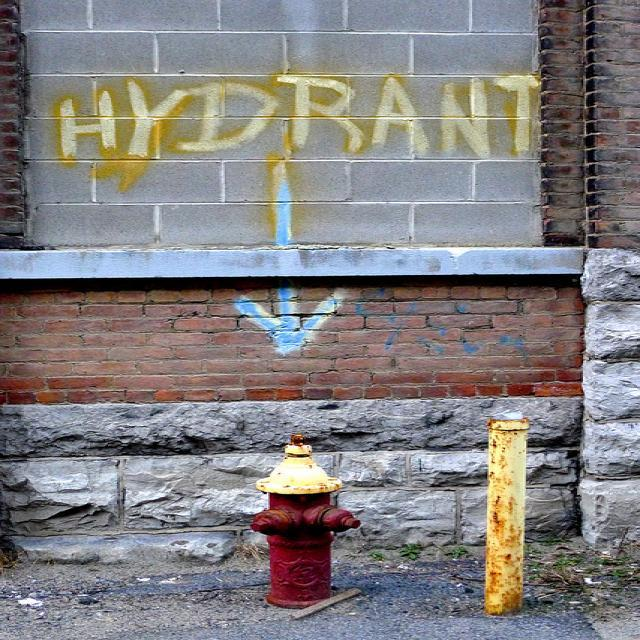fire_hydrant: (249, 434, 363, 609)
